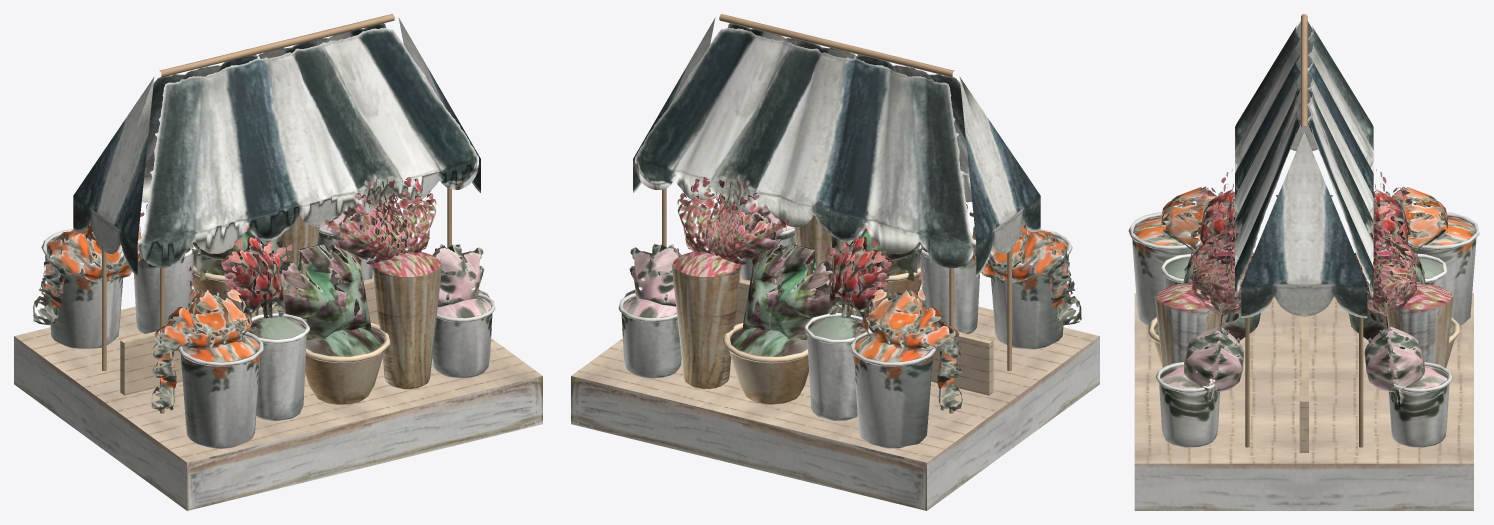
Rendered from stall-lite.glb.
3 renders of one model, left to right at view 1: azimuth 30°, elevation 25°; view 2: azimuth 150°, elevation 25°; view 3: azimuth 270°, elevation 25°, orthographic.
Parts seen in each view (by area): view 1: awning, crate, pot_1, pot_4, bouquet_3, bouquet_1, bouquet_4, pot_3, pot_2, pot_1b, pot_5, bouquet_1b (+7 smaller); view 2: awning, crate, pot_1b, pot_4b, bouquet_3b, bouquet_1b, bouquet_4b, pot_3b, pot_2b, pot_1, pot_5b, bouquet_1 (+7 smaller); view 3: crate, awning, pot_5, pot_5b, pot_1, pot_1b, pot_4, pot_4b, bouquet_4b, bouquet_4, bouquet_5b, bouquet_5 (+9 smaller).
Part boxes in pixels (<box>): awning: <box>73,17,480,276</box>; crate: <box>14,256,542,510</box>; pot_1: <box>177,327,263,448</box>; pot_4: <box>372,251,442,389</box>; bouquet_3: <box>278,244,370,340</box>; bouquet_1: <box>151,261,251,411</box>; bouquet_4: <box>325,177,436,264</box>; pot_3: <box>305,322,390,404</box>; pot_2: <box>243,313,309,420</box>; pot_1b: <box>41,229,124,349</box>; pot_5: <box>432,293,495,378</box>; bouquet_1b: <box>33,211,143,324</box>; awning: <box>633,17,1040,276</box>; crate: <box>571,256,1099,510</box>; pot_1b: <box>850,327,936,448</box>; pot_4b: <box>671,252,741,389</box>; bouquet_3b: <box>743,244,835,339</box>; bouquet_1b: <box>862,261,962,411</box>; bouquet_4b: <box>677,177,788,264</box>; pot_3b: <box>722,322,808,404</box>; pot_2b: <box>804,313,870,420</box>; pot_1: <box>989,229,1072,349</box>; pot_5b: <box>618,293,681,378</box>; bouquet_1: <box>970,211,1081,325</box>; crate: <box>1134,293,1473,510</box>; awning: <box>1235,21,1373,318</box>; pot_5: <box>1155,362,1219,447</box>; pot_5b: <box>1388,362,1452,447</box>; pot_1: <box>1128,212,1200,325</box>; pot_1b: <box>1407,212,1479,325</box>; pot_4: <box>1154,283,1222,371</box>; pot_4b: <box>1385,283,1453,369</box>; bouquet_4b: <box>1354,222,1417,316</box>; bouquet_4: <box>1190,222,1253,316</box>; bouquet_5b: <box>1364,326,1425,404</box>; bouquet_5: <box>1184,327,1243,404</box>.
Bounding box in the file's own units: 2.03 × 1.91 × 1.71.
Materials: 2 (2 with a texture image).
